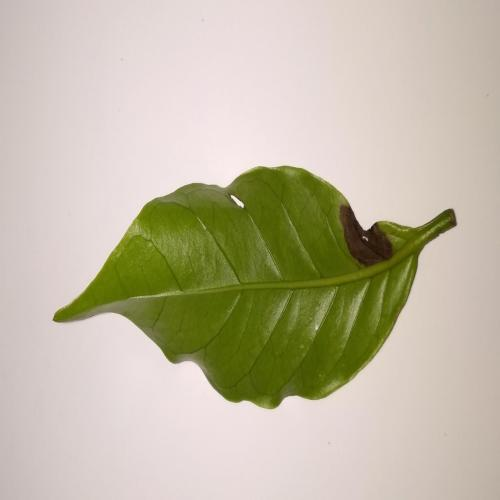miner: (340, 202, 393, 267)
